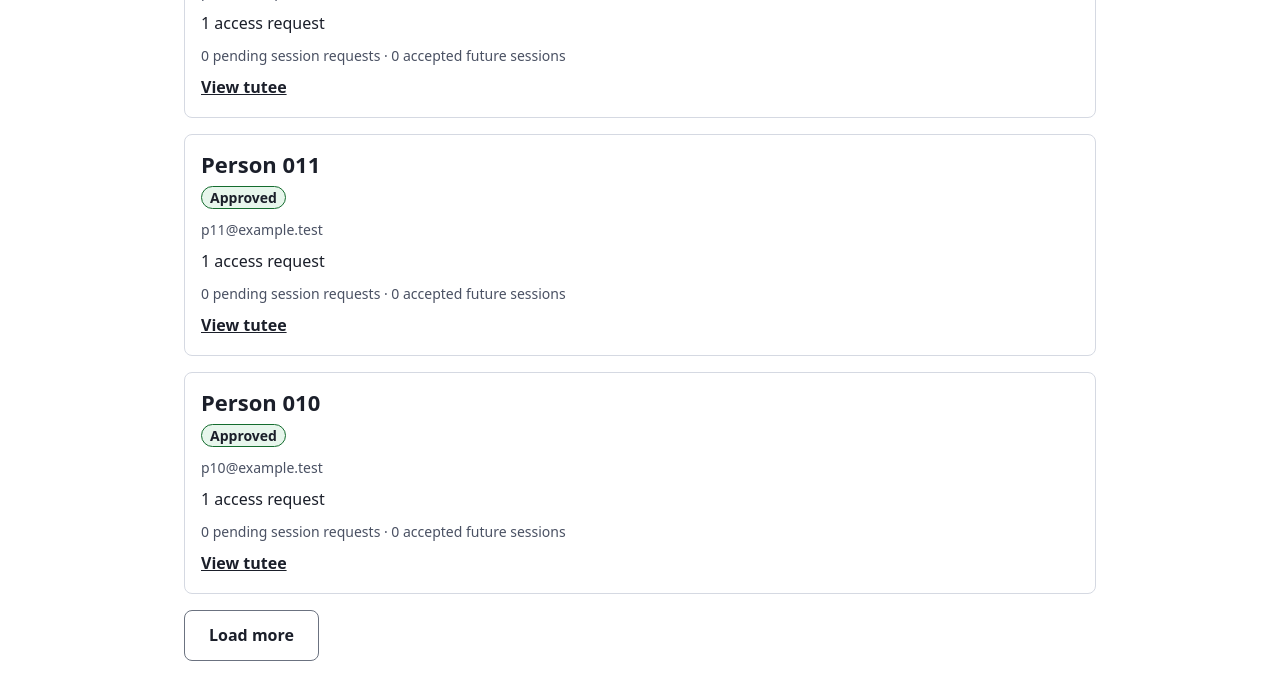
Test case: tutees list page › announces progress and loads more rows
(page scrolled)
Click the button "Load more": {"x": 251, "y": 635} [184,610,319,661]
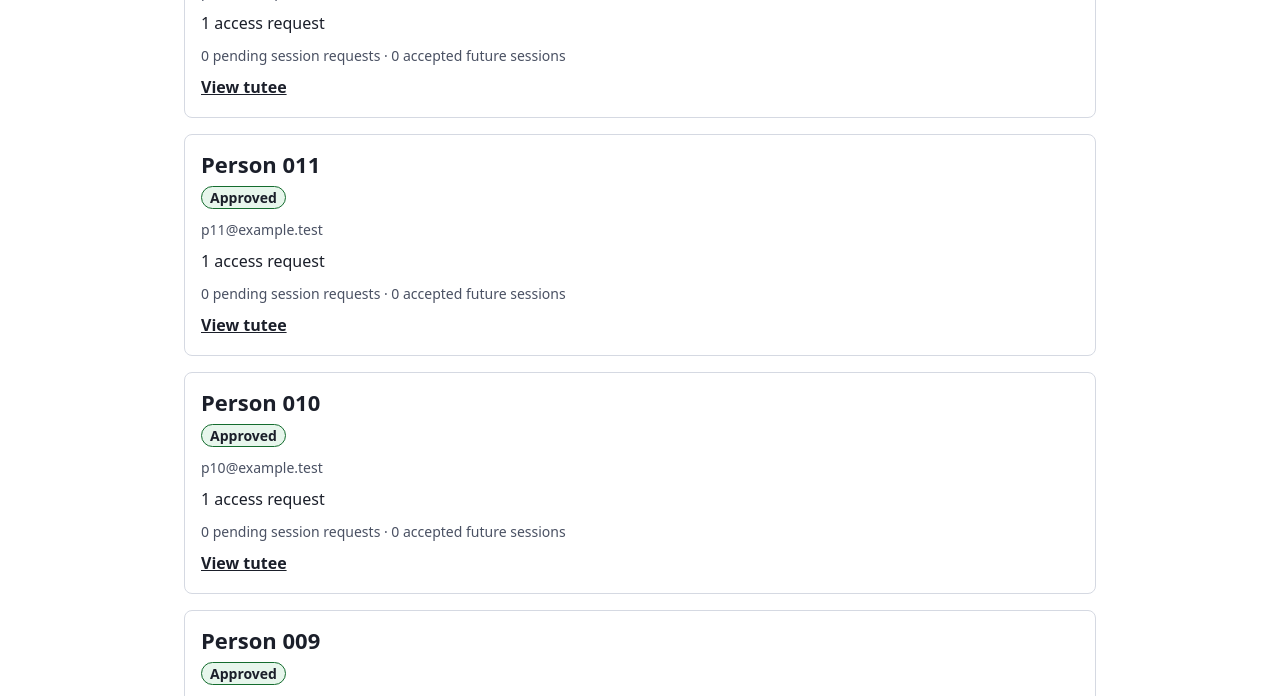
Now the button "Load more" is gone
